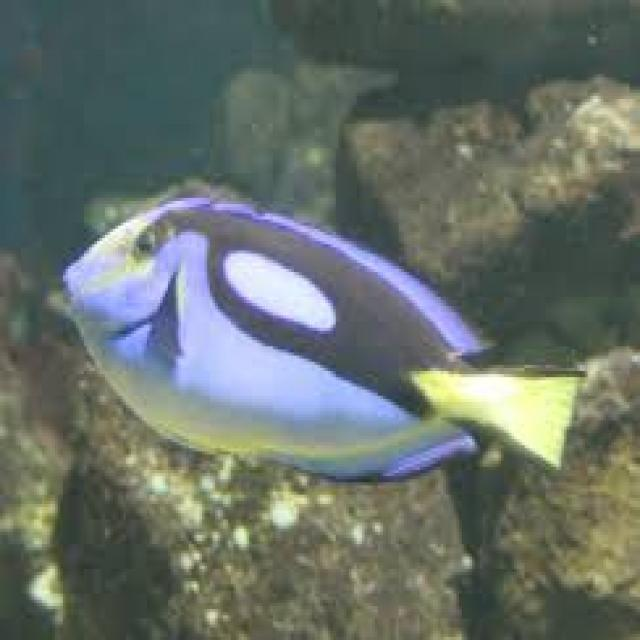TangFish: (62, 193, 580, 483)
